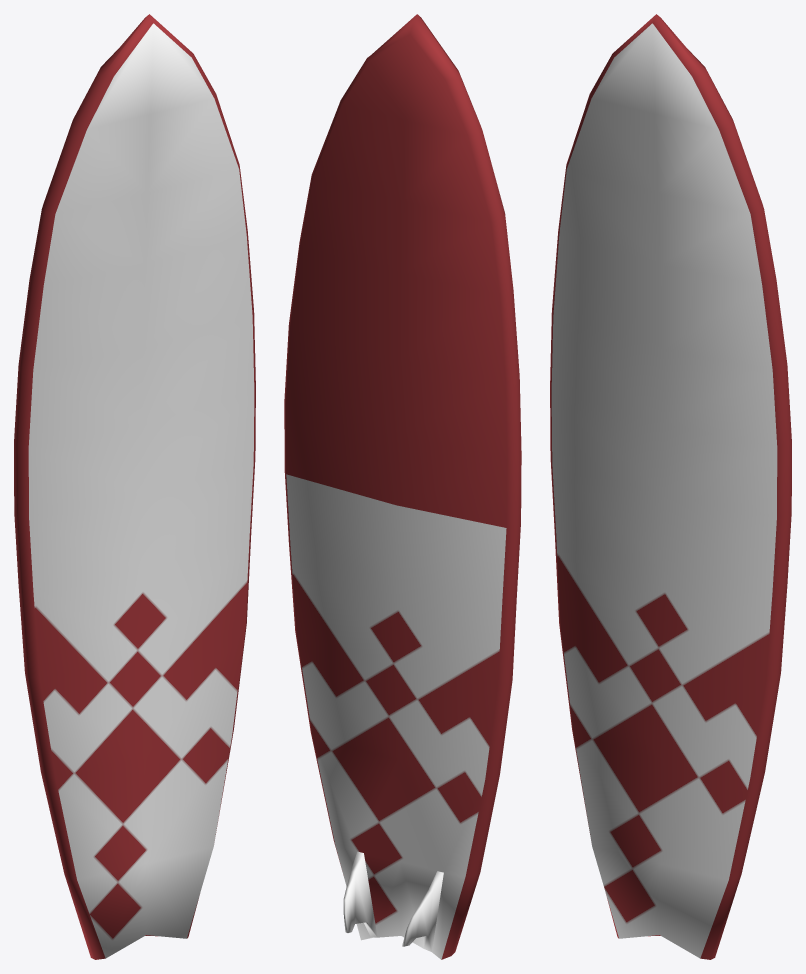
File: Surfboard 3.fbx
3 renders of one model, left to right at view 1: azimuth 30°, elevation 25°; view 2: azimuth 150°, elevation 25°; view 3: azimuth 330°, elevation 25°, orthographic. The views are drawn at different scales.
Parts seen in each view (by area): view 1: Surfboard.003; view 2: Surfboard.003; view 3: Surfboard.003.
Part boxes in pixels (left/top/right/bottom): Surfboard.003: left=14, top=14, right=255, bottom=959; Surfboard.003: left=284, top=14, right=521, bottom=959; Surfboard.003: left=550, top=14, right=791, bottom=959.
Size of the model in its own units: 0.6527 by 2.48 by 0.2242.
